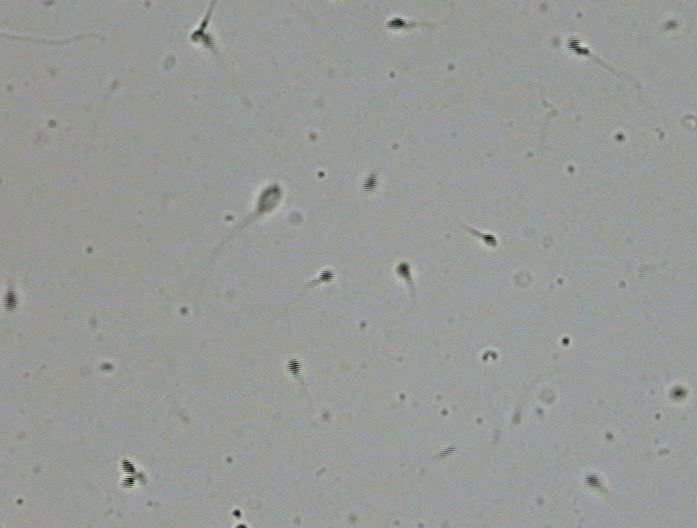S: (256, 184, 282, 213), (567, 36, 589, 55), (191, 30, 212, 46), (287, 358, 302, 376), (386, 17, 408, 29), (4, 291, 17, 311), (362, 175, 377, 192), (396, 262, 410, 278), (584, 475, 601, 488), (121, 459, 135, 474), (482, 233, 497, 247), (120, 476, 136, 489), (319, 269, 335, 281), (671, 387, 685, 399)
